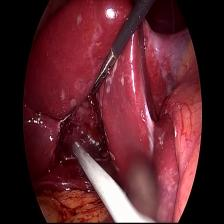Grasper: (90, 47, 121, 96)
Irrigator: (69, 139, 91, 166)
